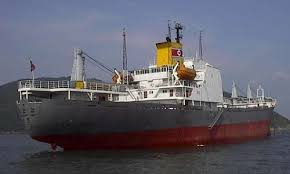tau_dansu: (25, 46, 277, 144)
